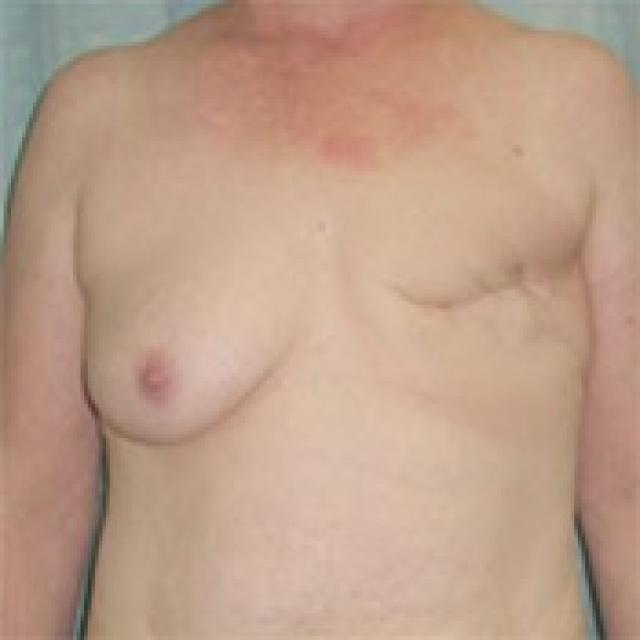Seno herido: (338, 208, 600, 400)
Seno ileso: (75, 213, 325, 472)
